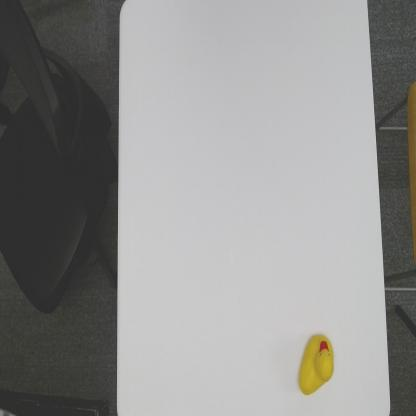Duck: (298, 330, 335, 398)
